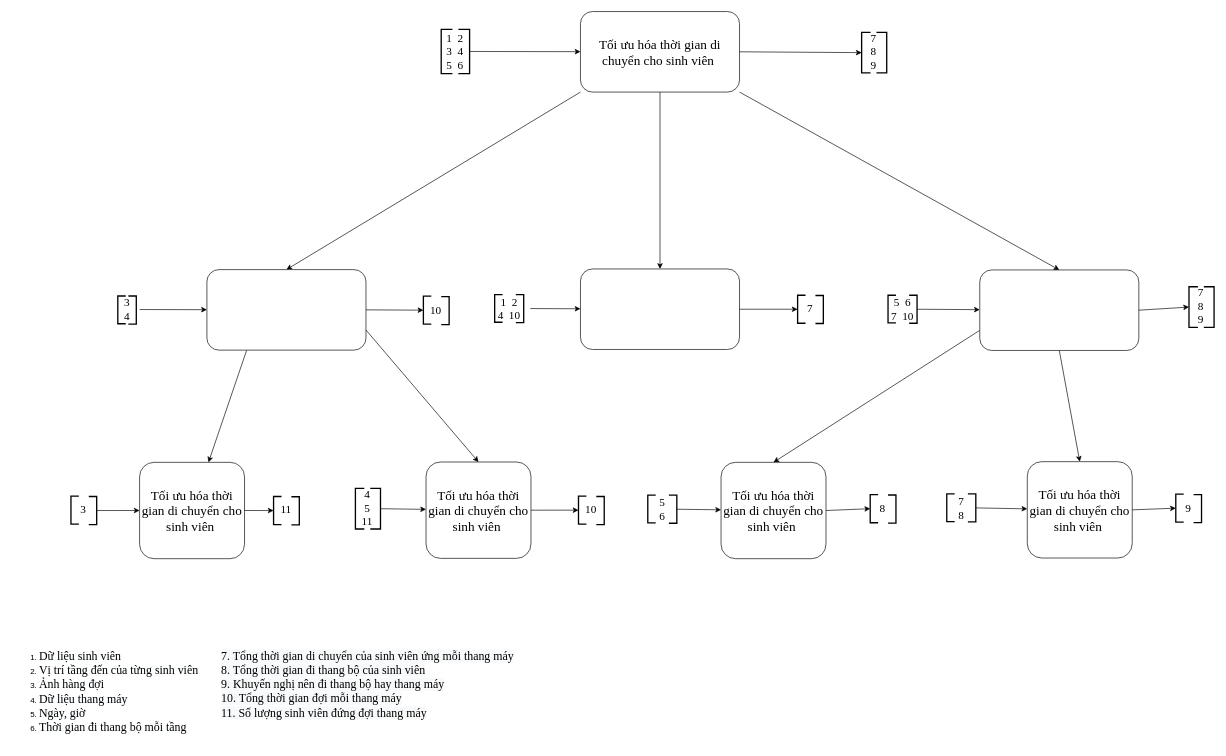
Some shapes in this 1226 by 756 pixel diagram are drawn without their labels. Here are the shapes that lost their labels. From the top down, the box of each, then its label:
(206, 269, 366, 350): Tính toán thời gian sinh viên được vào thang máy
(580, 268, 740, 349): Tính toán thời gian sinh viên di thang máy
(979, 269, 1139, 350): Lựa chọn đường đi tốt nhất cho sinh
